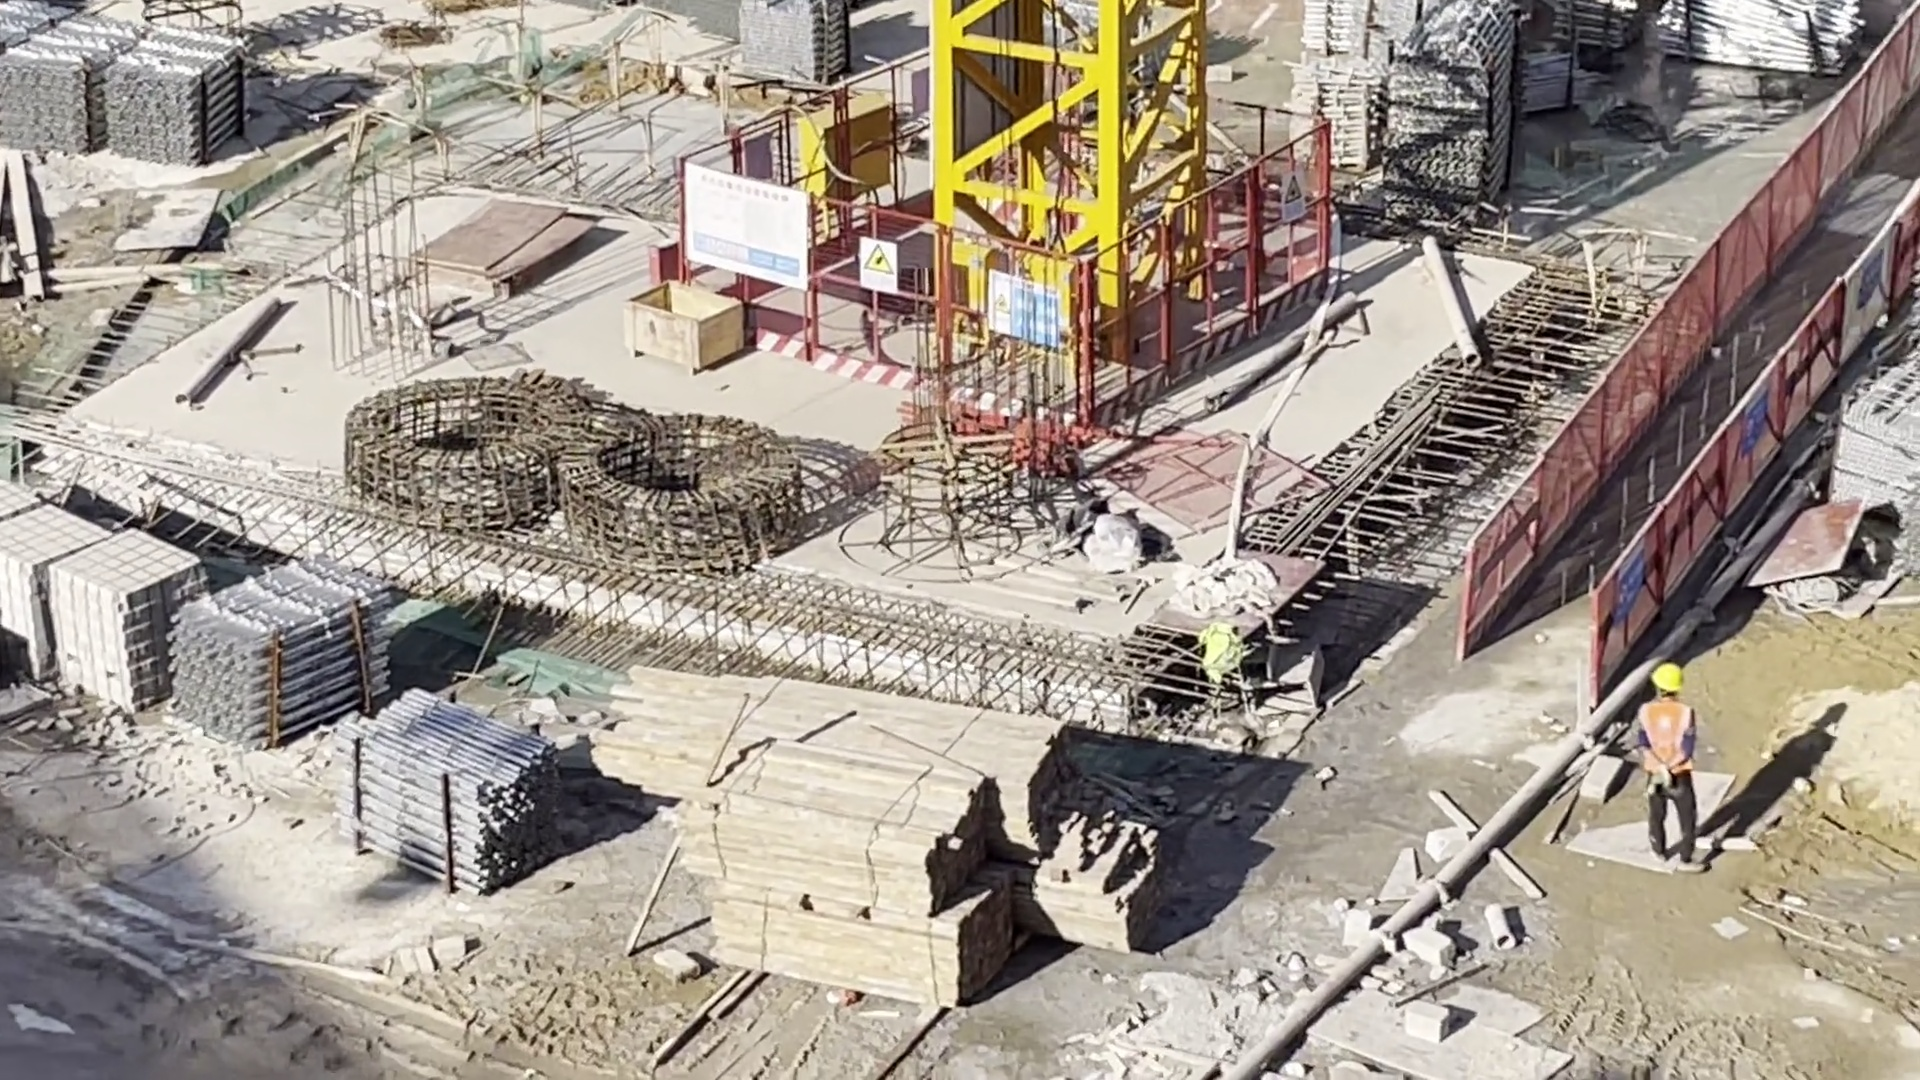board: (416, 200, 585, 308)
brick: (1, 498, 177, 711)
ebox: (801, 93, 902, 200)
fence: (1466, 1, 1920, 674)
helmet: (1650, 663, 1685, 693)
person: (1635, 664, 1706, 876)
scaffold: (344, 685, 561, 892), (169, 568, 389, 744), (1392, 6, 1507, 203), (104, 26, 252, 168), (1650, 1, 1859, 84), (5, 21, 127, 154), (1292, 56, 1396, 169), (741, 1, 846, 81), (1296, 1, 1400, 70), (1555, 1, 1640, 57)
slogan: (981, 270, 1062, 350), (859, 237, 900, 295), (1613, 542, 1643, 616), (1746, 384, 1769, 454), (1283, 172, 1309, 227)
vest: (1646, 697, 1694, 776)
wood: (612, 669, 1067, 860), (697, 749, 1020, 999)
